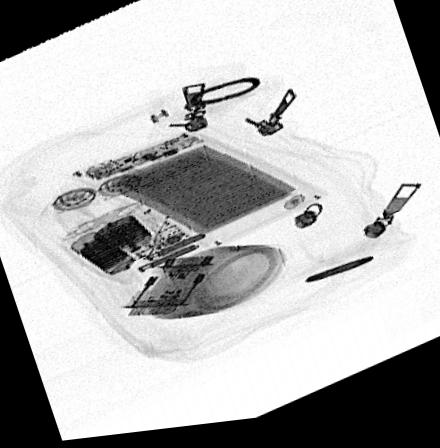Powerbank: (63, 130, 326, 255)
